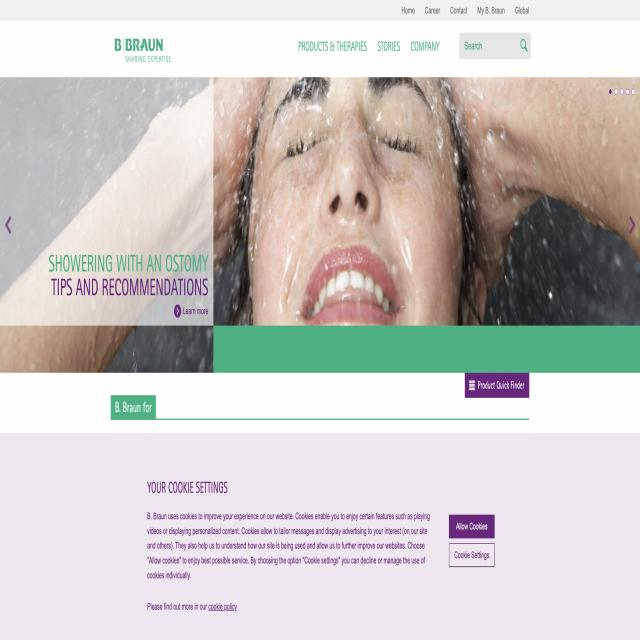Logo: (105, 24, 183, 73)
Navigation: (291, 26, 537, 66)
